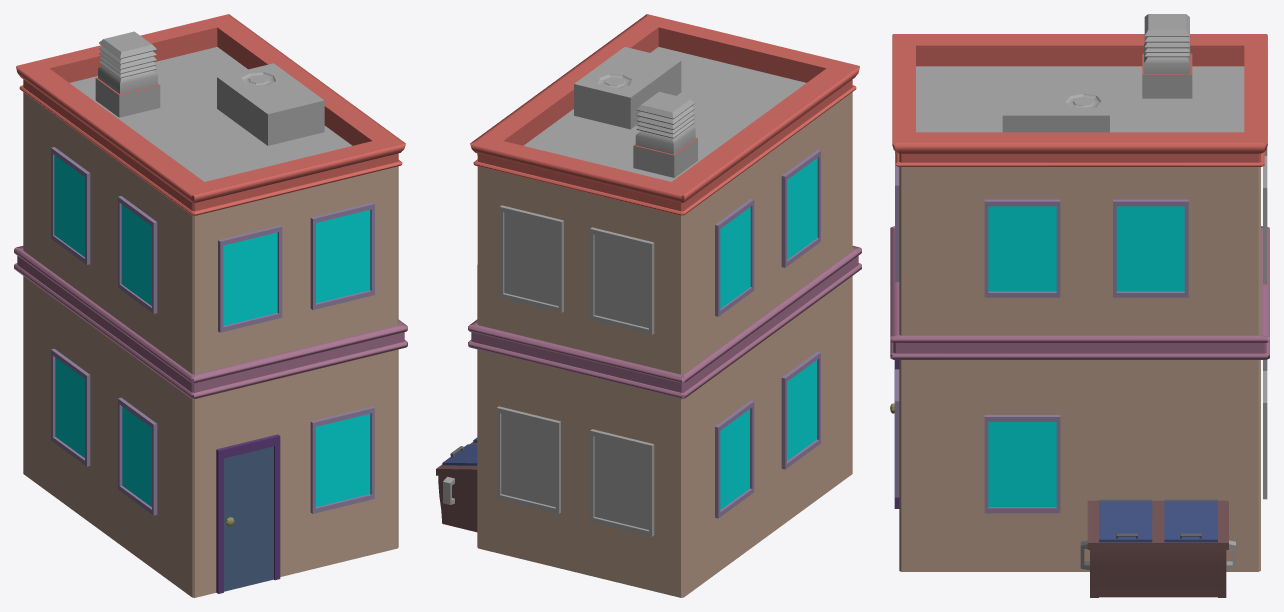
Rendered from Edificio_02.fbx.
3 views of the same model, side by side, from view 1: azimuth 30°, elevation 25°; view 2: azimuth 150°, elevation 25°; view 3: azimuth 270°, elevation 25° (orthographic). The views are drawn at different scales.
Parts seen in each view (by area): view 1: polySurface129; view 2: polySurface129; view 3: polySurface129.
Boxes of the visible parts, <box> form: polySurface129: <box>14,14,407,597</box>; polySurface129: <box>436,14,861,597</box>; polySurface129: <box>890,14,1269,597</box>.
Bounding box in the file's own units: 867 × 1393 × 1009.
